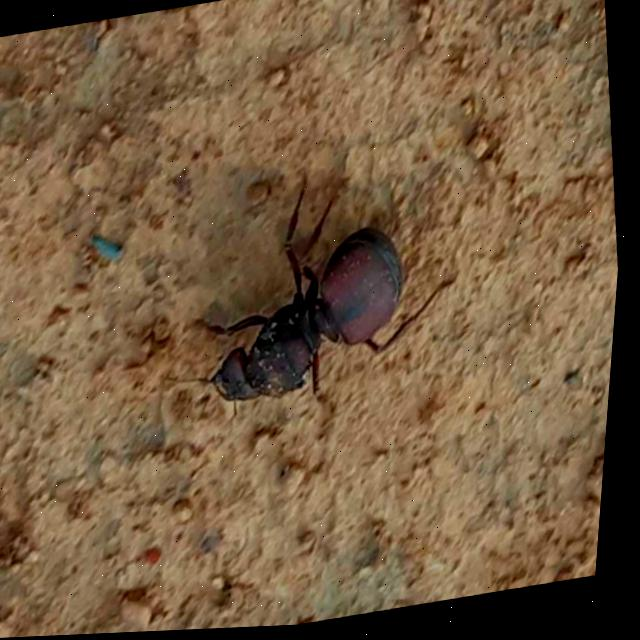Alive-Female-Dealate: (139, 149, 488, 456)
